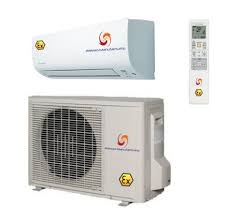ac: (31, 15, 161, 83)
